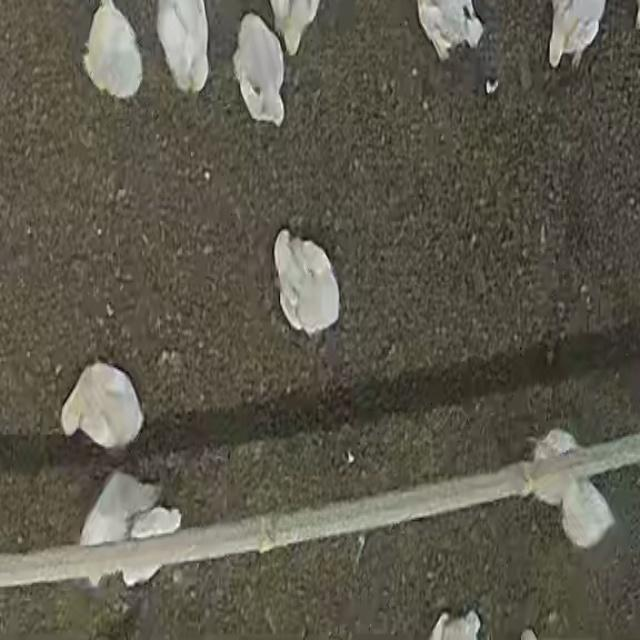chicken: (269, 227, 344, 339), (57, 360, 146, 451), (230, 12, 288, 130)
